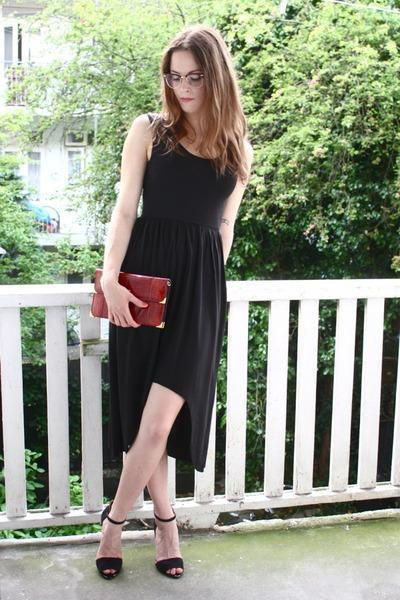bag: (90, 272, 170, 327)
dress: (101, 135, 236, 515)
shoe: (96, 557, 183, 580)
